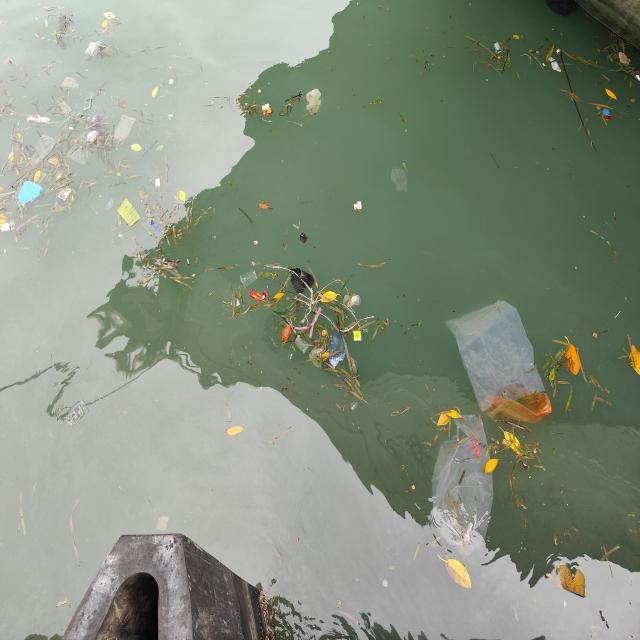Bungkus Minuman: (239, 270, 258, 289), (344, 294, 362, 311), (295, 337, 311, 354)
Kantong Plastik: (423, 409, 505, 569), (443, 295, 552, 414), (30, 135, 56, 168), (68, 133, 93, 167), (114, 115, 137, 146), (289, 268, 316, 294), (327, 333, 347, 368), (17, 181, 44, 204)
